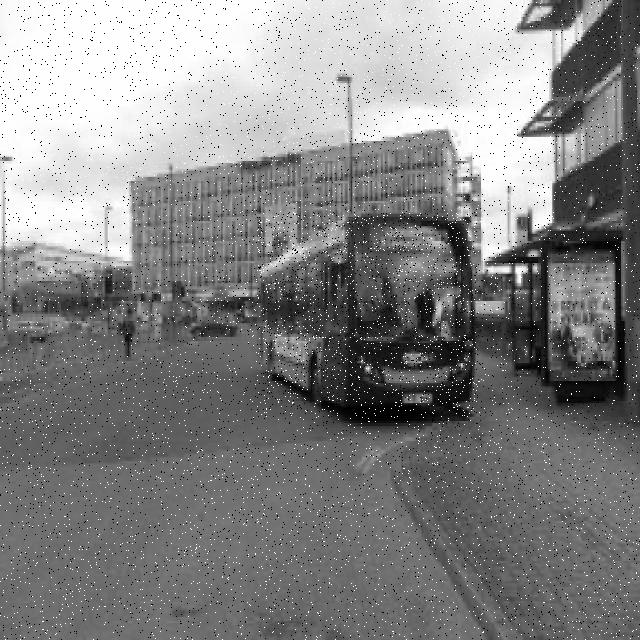Bus: (256, 213, 478, 413)
